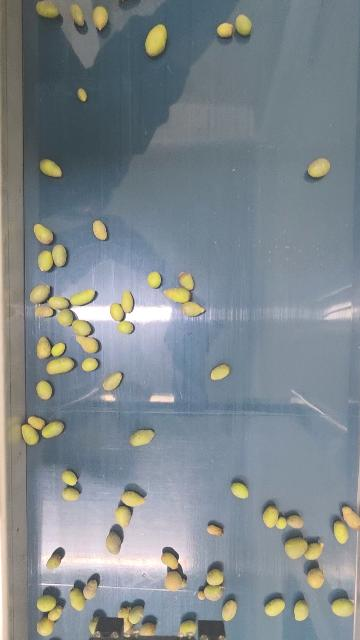Baby Potato: (144, 24, 169, 57), (283, 536, 309, 560), (44, 356, 75, 376), (307, 156, 331, 179), (129, 427, 156, 447), (164, 285, 194, 303), (330, 596, 355, 617), (39, 157, 62, 179), (20, 423, 41, 447), (341, 504, 360, 530), (34, 0, 60, 19), (69, 288, 96, 306), (179, 299, 206, 317), (33, 222, 54, 245), (76, 334, 100, 354), (92, 4, 110, 30), (69, 2, 87, 28), (332, 519, 350, 545), (164, 571, 187, 591), (234, 13, 253, 37), (199, 584, 224, 602), (265, 596, 287, 616), (41, 420, 64, 439), (306, 566, 325, 589), (121, 490, 146, 507), (102, 371, 123, 391), (30, 284, 51, 304), (263, 503, 279, 529), (69, 587, 86, 611), (105, 531, 122, 555), (52, 243, 68, 268), (71, 318, 93, 336), (37, 249, 53, 273), (35, 336, 51, 360), (36, 617, 55, 637), (230, 480, 249, 500), (36, 594, 57, 612), (221, 599, 238, 621), (293, 599, 309, 622), (306, 540, 324, 560), (210, 363, 230, 381), (178, 619, 198, 637), (178, 270, 195, 291), (114, 506, 131, 527), (161, 551, 179, 570), (36, 379, 52, 400), (48, 295, 70, 310), (206, 568, 224, 586), (216, 21, 235, 38), (129, 604, 144, 625), (121, 290, 134, 314), (33, 303, 55, 317), (61, 469, 78, 487), (57, 308, 73, 327), (93, 220, 107, 241), (83, 579, 97, 600), (81, 356, 99, 372), (287, 513, 305, 529), (47, 604, 63, 621), (147, 271, 162, 289), (27, 415, 45, 430), (46, 552, 61, 570), (109, 302, 123, 321), (51, 341, 66, 358), (61, 487, 79, 501), (140, 621, 156, 636), (117, 320, 134, 334), (206, 524, 223, 536), (88, 617, 99, 635), (276, 515, 288, 530), (118, 606, 130, 618), (77, 87, 87, 101), (114, 0, 133, 1)
